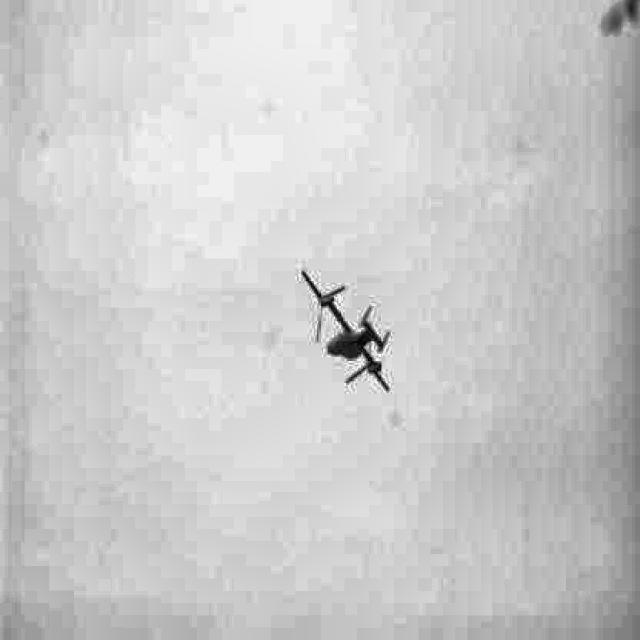V22: (301, 270, 390, 393)
